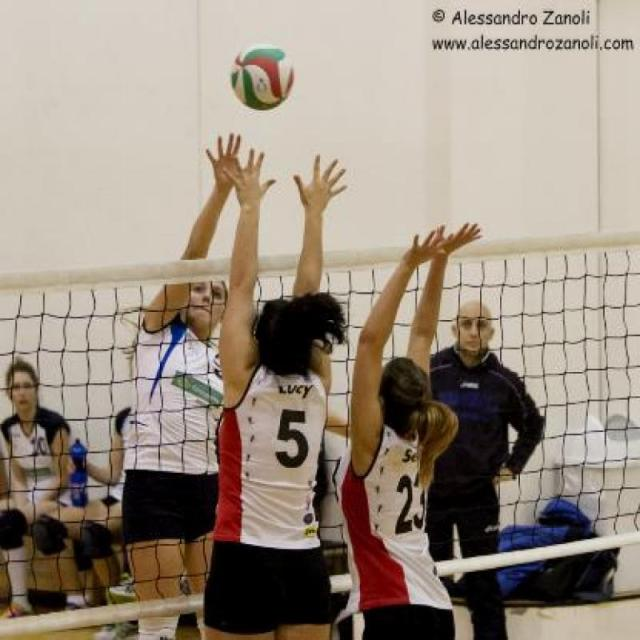volleyball: (229, 41, 296, 112)
